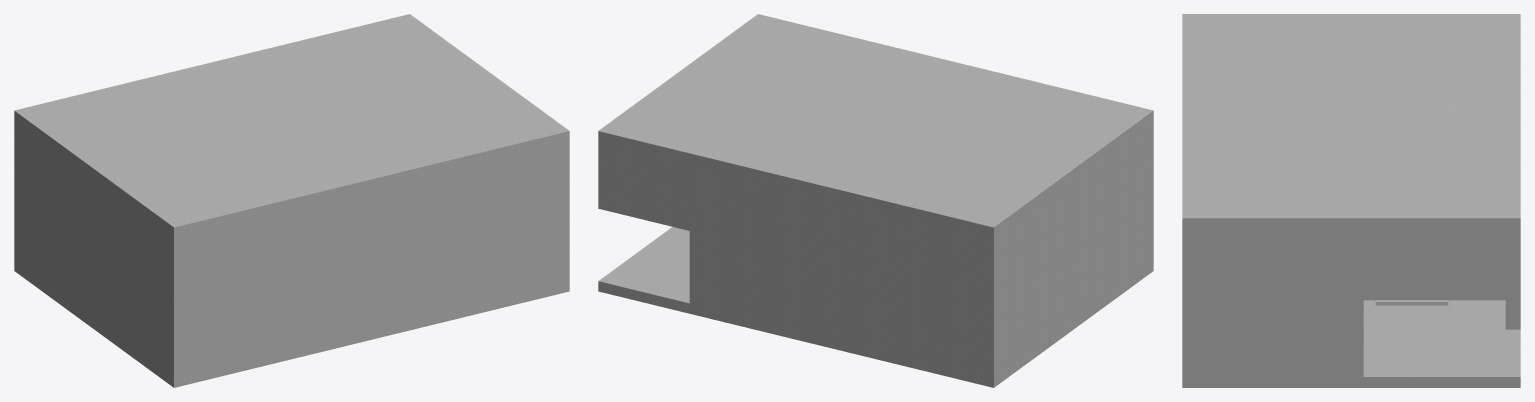
The model's file is StageStructure.fbx.
3 views of the same model, side by side, from view 1: azimuth 30°, elevation 25°; view 2: azimuth 150°, elevation 25°; view 3: azimuth 270°, elevation 25° (orthographic). The views are drawn at different scales.
Visible parts, largest first — view 1: mtr_wall_2 Mesh (1); view 2: mtr_wall_2 Mesh (1); view 3: mtr_wall_2 Mesh (1), Wall Mesh (1).
Boxes of the visible parts, x1=… form: mtr_wall_2 Mesh (1): x1=14, y1=14, x2=569, y2=387; mtr_wall_2 Mesh (1): x1=598, y1=14, x2=1153, y2=387; mtr_wall_2 Mesh (1): x1=1182, y1=14, x2=1520, y2=387; Wall Mesh (1): x1=1375, y1=300, x2=1448, y2=305.
Size of what is drawn, in the model's own units: 40 by 15.75 by 28.
